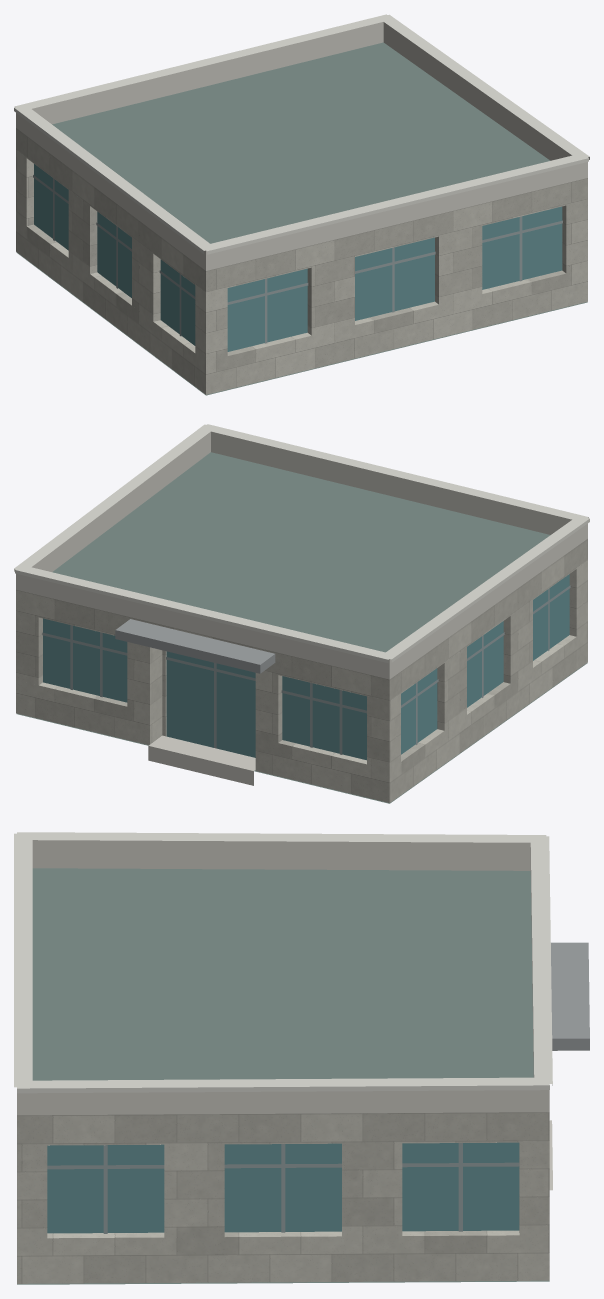
The picture shows the model from 3 angles, top to bottom: view 1: azimuth 30°, elevation 25°; view 2: azimuth 150°, elevation 25°; view 3: azimuth 270°, elevation 25°; orthographic projection. The views are drawn at different scales.
Visible parts, largest first — view 1: annexNaville__roof, annexNaville__wall, annexNaville__glass, annexNaville__parapet, annexNaville__trim, annexNaville__frame; view 2: annexNaville__roof, annexNaville__wall, annexNaville__glass, annexNaville__parapet, annexNaville__trim, annexNaville__canopy, annexNaville__entranceThreshold, annexNaville__frame; view 3: annexNaville__roof, annexNaville__wall, annexNaville__glass, annexNaville__parapet, annexNaville__trim, annexNaville__canopy, annexNaville__frame.
Part boxes in pixels (<box>): annexNaville__roof: <box>16,42,587,395</box>; annexNaville__wall: <box>16,128,587,394</box>; annexNaville__glass: <box>34,164,562,351</box>; annexNaville__parapet: <box>16,22,587,270</box>; annexNaville__trim: <box>14,14,589,254</box>; annexNaville__frame: <box>33,175,562,343</box>; annexNaville__roof: <box>16,452,587,803</box>; annexNaville__wall: <box>16,539,587,802</box>; annexNaville__glass: <box>43,574,569,760</box>; annexNaville__parapet: <box>16,431,587,679</box>; annexNaville__trim: <box>14,424,589,663</box>; annexNaville__canopy: <box>115,619,275,673</box>; annexNaville__entranceThreshold: <box>148,735,255,785</box>; annexNaville__frame: <box>42,585,570,754</box>; annexNaville__roof: <box>17,868,549,1284</box>; annexNaville__wall: <box>17,1112,549,1283</box>; annexNaville__glass: <box>47,1142,519,1233</box>; annexNaville__parapet: <box>17,840,549,1115</box>; annexNaville__trim: <box>14,832,552,1093</box>; annexNaville__canopy: <box>551,942,589,1050</box>; annexNaville__frame: <box>47,1143,519,1233</box>.
Bounding box in the file's own units: 11.74 × 4.6 × 11.15.
9 materials, 1 textured.
